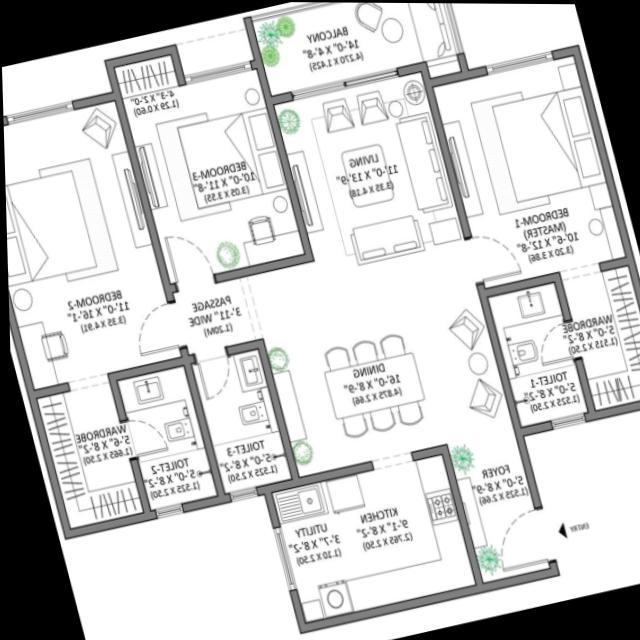Balcony-Sitout: (245, 2, 464, 99)
Bedroom: (116, 57, 304, 290)
Bedroom with Toilet: (3, 95, 217, 532), (422, 45, 640, 429)
Dining: (315, 326, 428, 443)
Dress: (34, 380, 143, 534), (558, 259, 640, 413)
Enterance-Foyer: (440, 427, 573, 587)
Kitchen: (259, 453, 473, 629)
Living: (267, 66, 465, 267)
Toilet: (105, 358, 219, 514), (186, 343, 299, 500), (478, 277, 591, 433)
